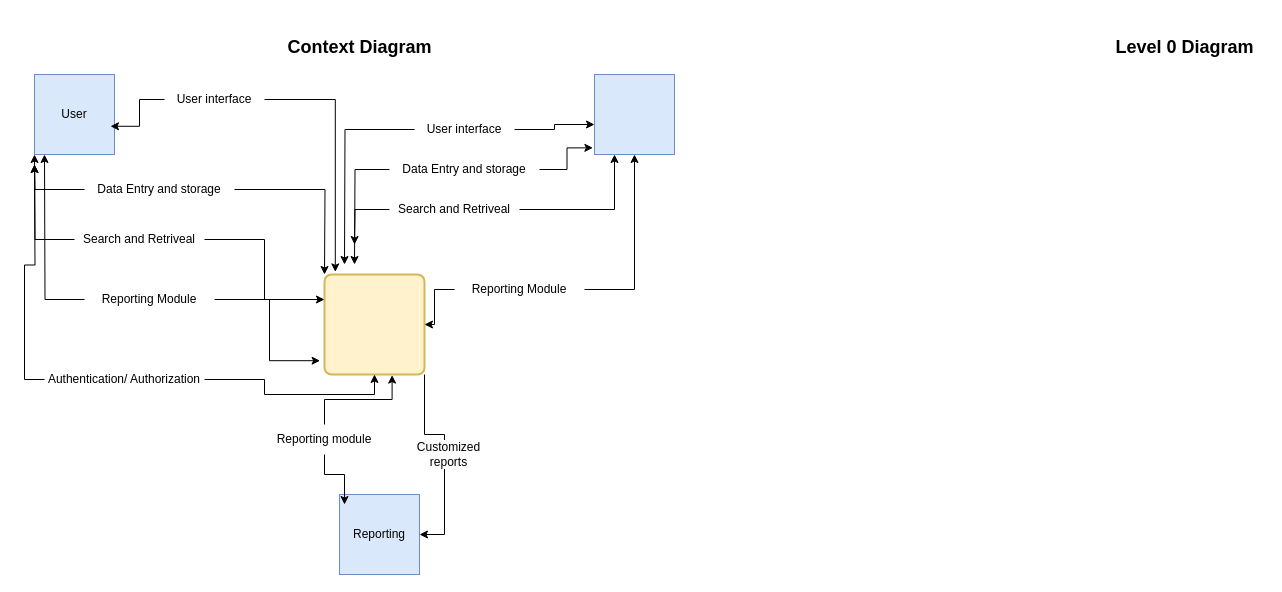
This 1282x592 diagram has some shape labels left out. The shapes that lost their labels are listed below. From the top down, each one's centre as x and y in pixels, then its label:
[634,114]: Admin
[374,324]: 0 Housing AI
